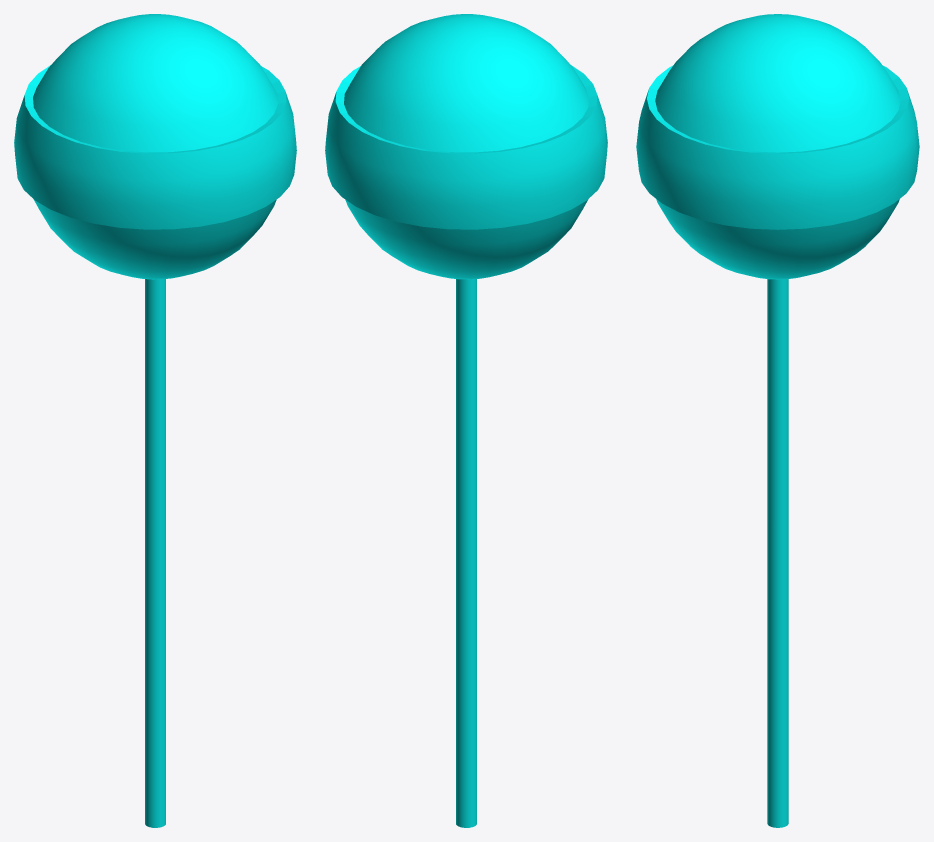
The model's file is Chupachup HP.fbx.
3 views of the same model, side by side, from view 1: azimuth 30°, elevation 25°; view 2: azimuth 150°, elevation 25°; view 3: azimuth 270°, elevation 25° (orthographic).
Visible parts, largest first — view 1: Chupachup; view 2: Chupachup; view 3: Chupachup.
Boxes of the visible parts, <box> form: Chupachup: <box>14,14,296,827</box>; Chupachup: <box>325,14,607,827</box>; Chupachup: <box>636,14,919,827</box>.
Bounding box in the file's own units: 123 × 381 × 123.
